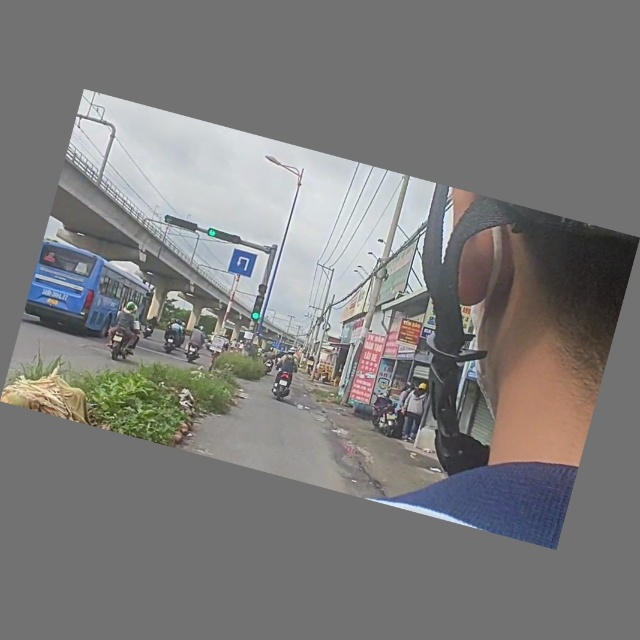I.409: (226, 247, 260, 281)
